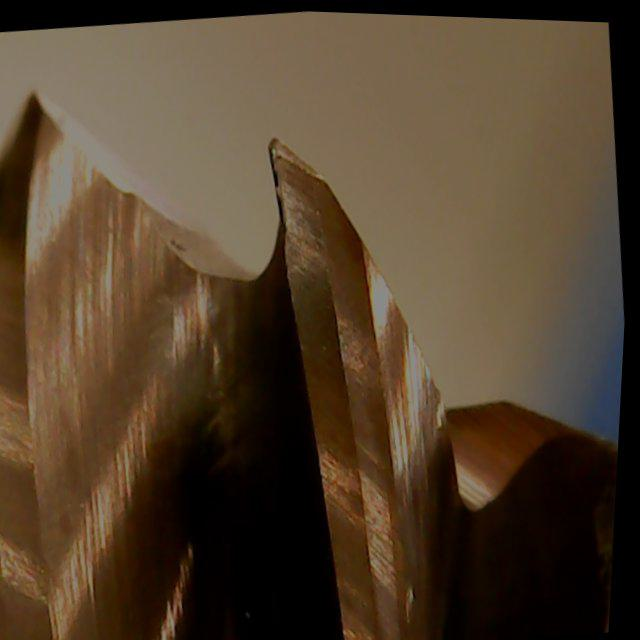Tool-wear-class-1: (237, 119, 396, 379)
